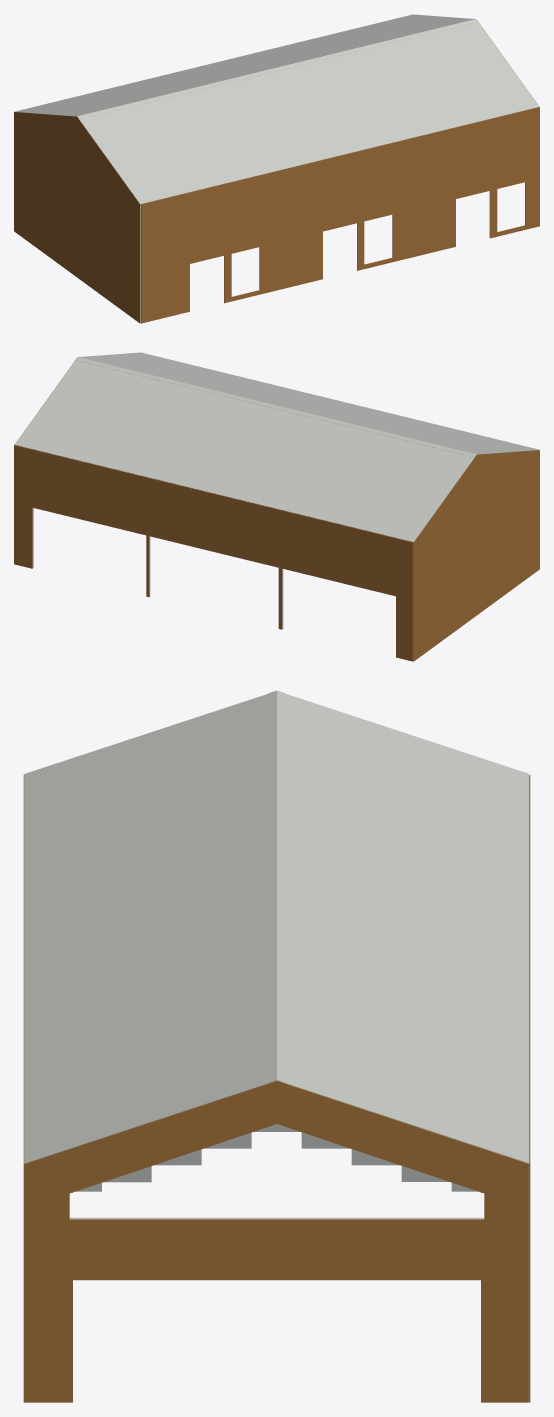
The model's file is Nave1_paneles_PIR_gris_claro.dae.
3 renders of one model, top to bottom at view 1: azimuth 30°, elevation 25°; view 2: azimuth 150°, elevation 25°; view 3: azimuth 270°, elevation 25°, orthographic. The views are drawn at different scales.
Visible parts, largest first — view 1: Cara limpia · lateral sur, Cara limpia · fondo, PR-S · P01, PR-S · P07, PR-S · P05, PR-S · P09, PR-S · P11, PR-S · P13, PR-S · P15, PR-S · P03, PR-S · P17, PR-S · P18 (+28 smaller); view 2: Cara limpia · lateral norte, Cara limpia · fondo, PR-N · P01, PR-N · P07, PR-N · P03, PR-N · P05, PR-N · P10, PR-N · P14, PR-N · P18, PR-N · P04, PR-N · P08, PR-N · P09 (+28 smaller); view 3: Cara limpia · frente, Cumbrera, PR-S · P05, PR-S · P13, PR-S · P16, PR-S · P02, PR-S · P08, PR-S · P10, PR-S · P03, PR-S · P07, PR-S · P11, PR-S · P15 (+30 smaller).
Part boxes in pixels (<box>): Cara limpia · lateral sur: <box>141,107,539,323</box>; Cara limpia · fondo: <box>14,112,140,323</box>; PR-S · P01: <box>79,114,161,204</box>; PR-S · P07: <box>209,82,291,172</box>; PR-S · P05: <box>166,93,248,182</box>; PR-S · P09: <box>252,72,334,161</box>; PR-S · P11: <box>296,61,377,151</box>; PR-S · P13: <box>339,51,421,140</box>; PR-S · P15: <box>382,40,464,130</box>; PR-S · P03: <box>123,103,204,193</box>; PR-S · P17: <box>426,30,507,119</box>; PR-S · P18: <box>447,24,529,114</box>; Cara limpia · lateral norte: <box>14,445,412,661</box>; Cara limpia · fondo: <box>413,450,539,661</box>; PR-N · P01: <box>392,452,474,542</box>; PR-N · P07: <box>262,420,344,510</box>; PR-N · P03: <box>349,441,430,531</box>; PR-N · P05: <box>305,431,387,520</box>; PR-N · P10: <box>197,404,279,494</box>; PR-N · P14: <box>111,383,192,473</box>; PR-N · P18: <box>24,362,106,452</box>; PR-N · P04: <box>327,436,409,526</box>; PR-N · P08: <box>241,415,322,504</box>; PR-N · P09: <box>219,410,301,499</box>; Cara limpia · frente: <box>25,1081,528,1402</box>; Cumbrera: <box>268,690,285,1082</box>; PR-S · P05: <box>24,778,268,879</box>; PR-S · P13: <box>24,947,268,1048</box>; PR-S · P16: <box>24,1010,268,1111</box>; PR-S · P02: <box>24,715,268,815</box>; PR-S · P08: <box>24,842,268,942</box>; PR-S · P10: <box>24,884,268,984</box>; PR-S · P03: <box>24,736,268,837</box>; PR-S · P07: <box>24,820,268,921</box>; PR-S · P11: <box>24,905,268,1005</box>; PR-S · P15: <box>24,989,268,1090</box>.
Bounding box in the file's own units: 21.05 × 11.56 × 8.11.
